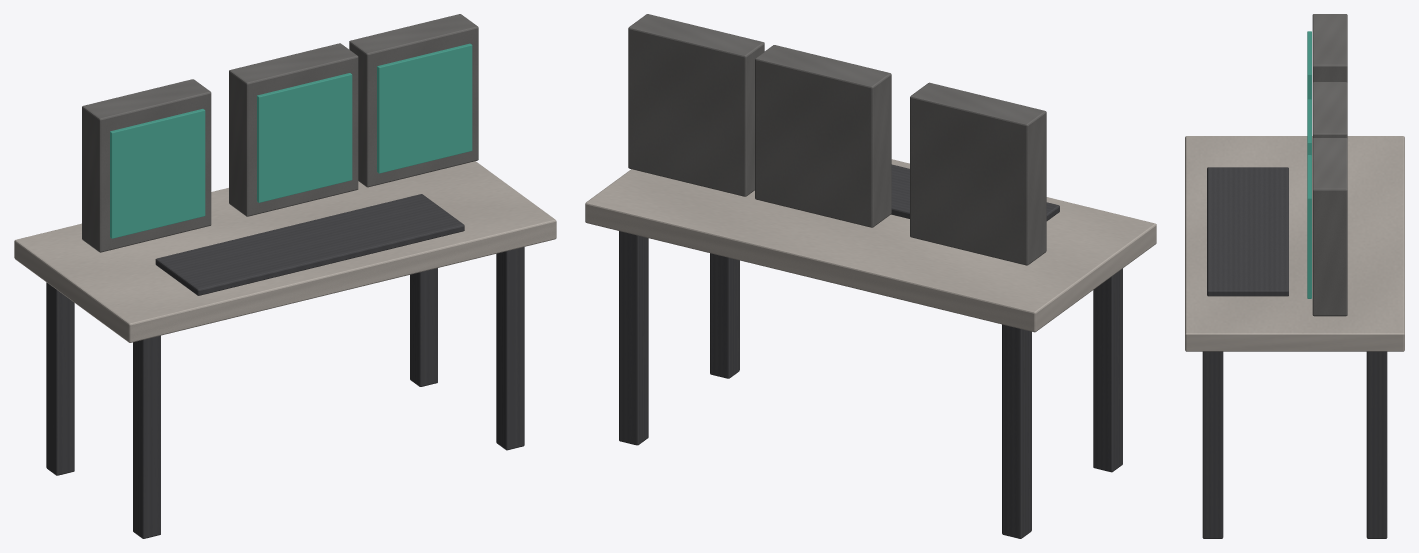
Rendered from communication_workstation.glb.
3 views of the same model, side by side, from view 1: azimuth 30°, elevation 25°; view 2: azimuth 150°, elevation 25°; view 3: azimuth 270°, elevation 25° (orthographic). The views are drawn at different scales.
Parts seen in each view (by area): view 1: top.004, control_panel.001, screen.003, screen.005, screen.004, monitor_case, monitor_case.001, monitor_case.002, leg.018, leg.016, leg.017, leg.019; view 2: top.004, monitor_case, monitor_case.001, monitor_case.002, leg.017, leg.019, leg.016, leg.018, control_panel.001; view 3: top.004, control_panel.001, monitor_case.002, leg.018, leg.019, monitor_case, monitor_case.001, screen.005, screen.003, screen.004.
Part boxes in pixels (<box>): top.004: <box>14,161,556,342</box>; control_panel.001: <box>155,194,464,295</box>; screen.003: <box>110,108,205,238</box>; screen.005: <box>377,43,472,173</box>; screen.004: <box>257,73,352,202</box>; monitor_case: <box>82,79,211,252</box>; monitor_case.001: <box>229,43,358,216</box>; monitor_case.002: <box>349,14,478,187</box>; leg.018: <box>496,247,524,450</box>; leg.016: <box>133,335,160,538</box>; leg.017: <box>46,282,74,475</box>; leg.019: <box>410,268,437,386</box>; top.004: <box>585,159,1156,332</box>; monitor_case: <box>910,82,1046,265</box>; monitor_case.001: <box>755,45,891,227</box>; monitor_case.002: <box>628,14,764,196</box>; leg.017: <box>1002,324,1031,538</box>; leg.019: <box>619,231,648,445</box>; leg.016: <box>1093,268,1122,472</box>; leg.018: <box>710,253,739,378</box>; control_panel.001: <box>891,164,1059,220</box>; top.004: <box>1185,136,1404,351</box>; control_panel.001: <box>1207,167,1288,296</box>; monitor_case.002: <box>1312,138,1347,316</box>; leg.018: <box>1202,351,1223,538</box>; leg.019: <box>1366,351,1387,538</box>; monitor_case: <box>1312,14,1347,82</box>; monitor_case.001: <box>1312,82,1347,138</box>; screen.005: <box>1307,155,1311,298</box>; screen.003: <box>1307,31,1311,99</box>; screen.004: <box>1307,99,1311,155</box>.
Size of the model in its own units: 1.6 by 1.34 by 0.75.
4 materials, 3 textured.
